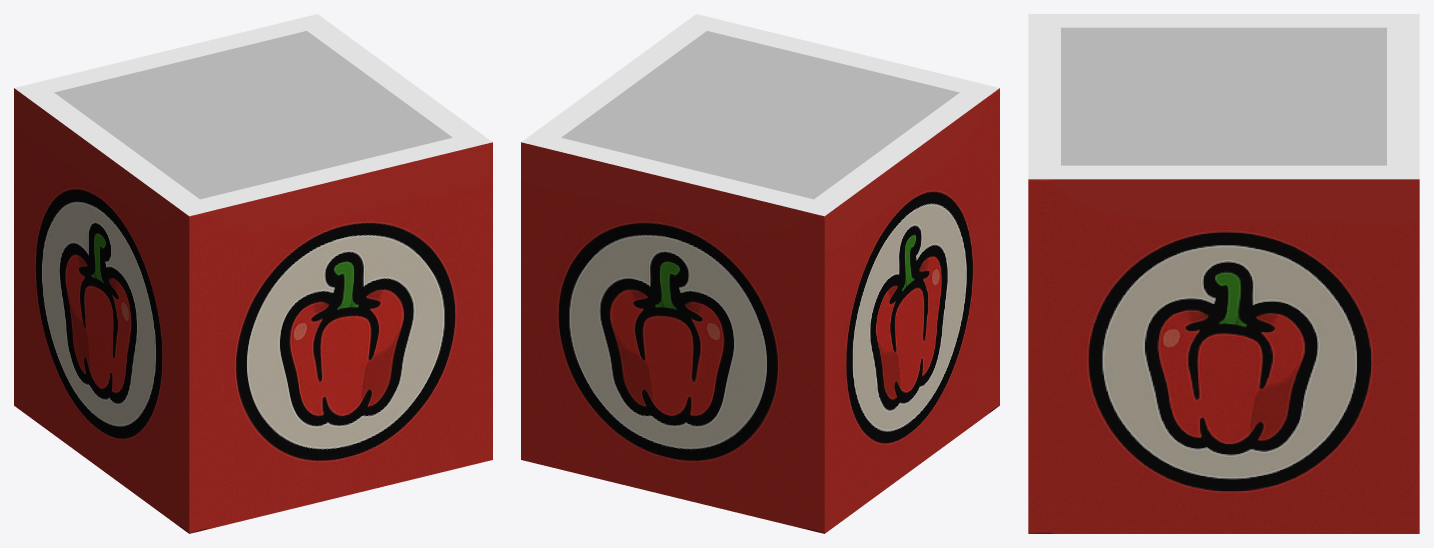
File: box_red.dae
3 renders of one model, left to right at view 1: azimuth 30°, elevation 25°; view 2: azimuth 150°, elevation 25°; view 3: azimuth 270°, elevation 25°, orthographic. The views are drawn at different scales.
Parts seen in each view (by area): view 1: Cube; view 2: Cube; view 3: Cube.
Boxes of the visible parts, left/top/right/bottom form: Cube: left=14, top=14, right=492, bottom=533; Cube: left=521, top=14, right=999, bottom=533; Cube: left=1028, top=14, right=1419, bottom=533.
Size of the model in its own units: 0.06 by 0.06 by 0.06.
